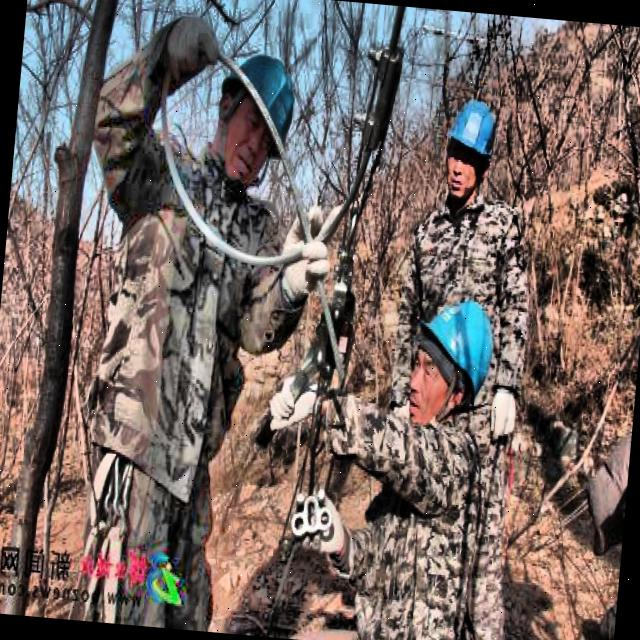helmet: (194, 32, 312, 202), (396, 280, 500, 426), (439, 91, 503, 209)
